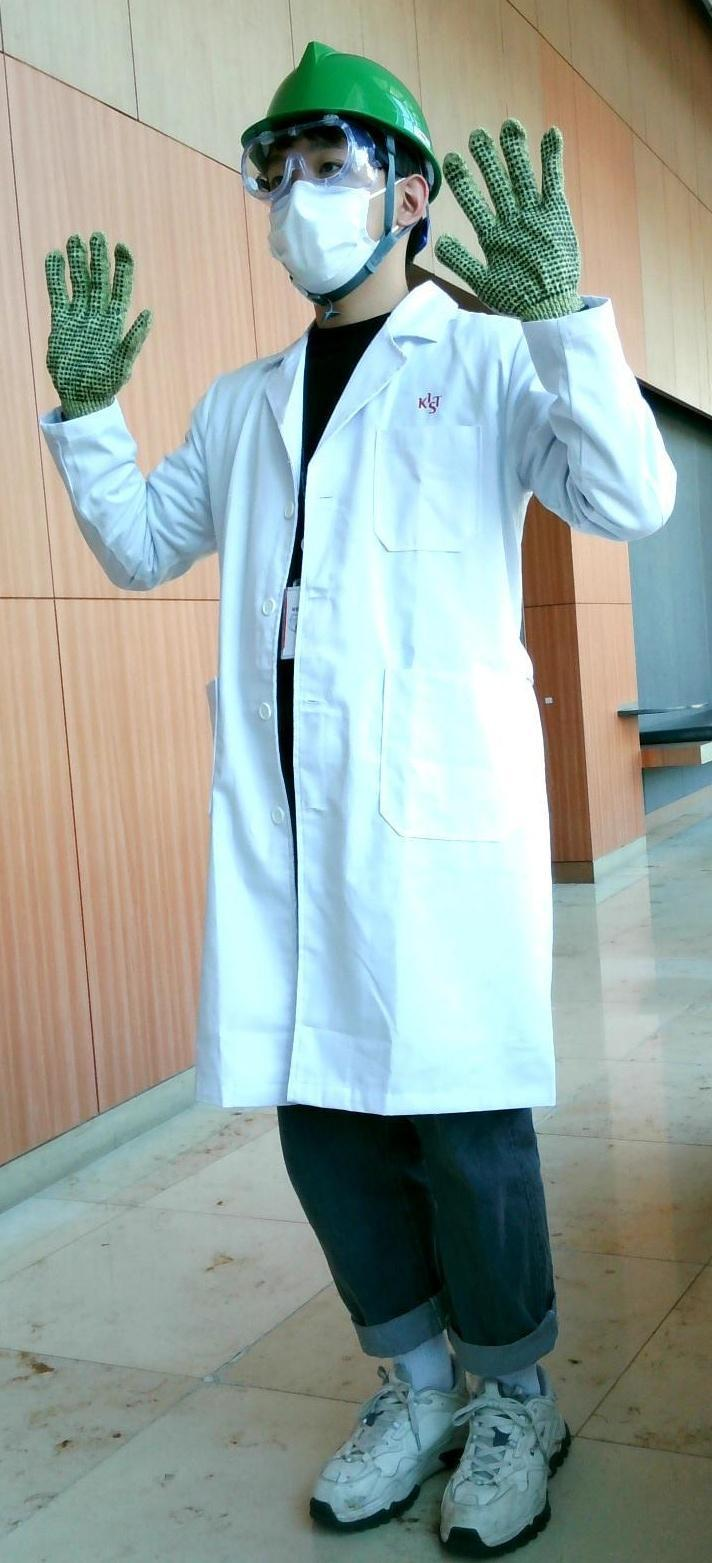lab_coat: (165, 309, 561, 1109)
